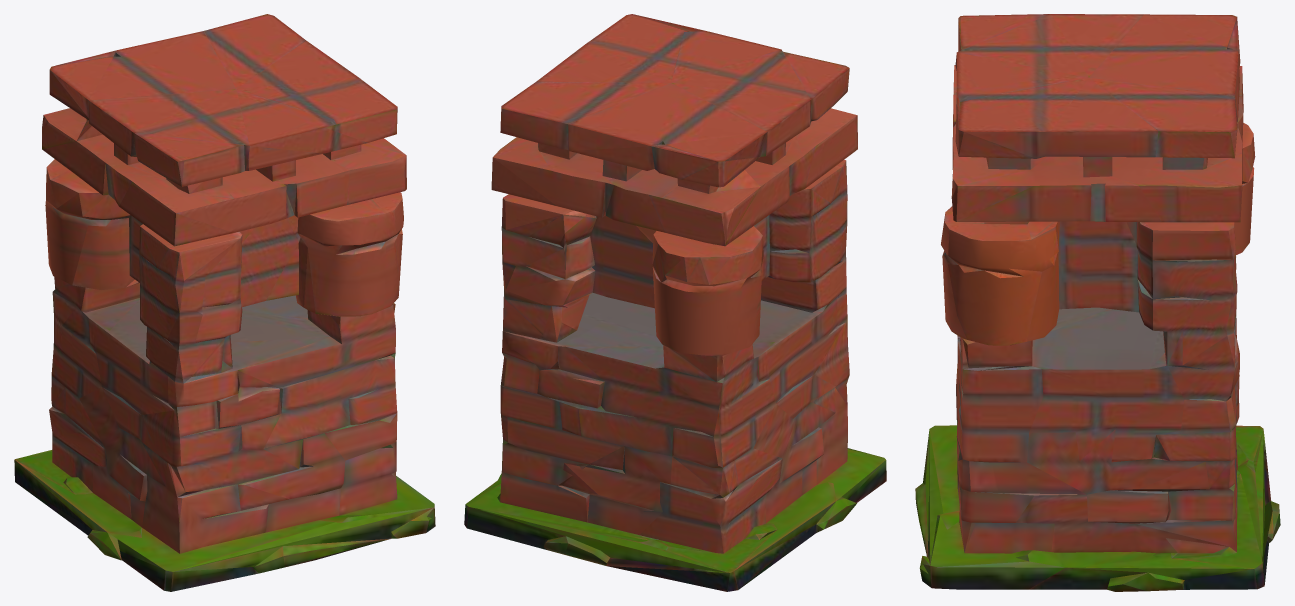
The model's file is roofChimney.glb.
3 renders of one model, left to right at view 1: azimuth 30°, elevation 25°; view 2: azimuth 150°, elevation 25°; view 3: azimuth 270°, elevation 25°, orthographic. The views are drawn at different scales.
Bounding box in the file's own units: 1.4 × 1.9 × 1.41.
Materials: 1 (1 with a texture image).
